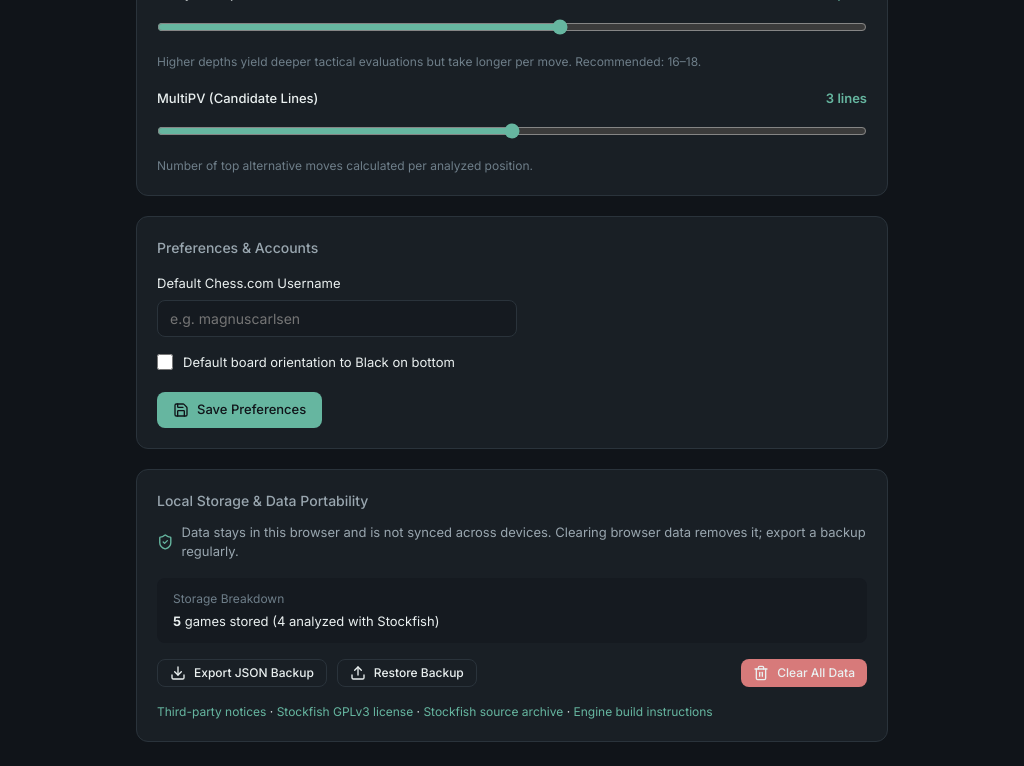
Test case: Settings recovery and operation safety › keeps clear failures visible inside the confirmation dialog and enables retry
(page scrolled)
Click the button "Clear All Data".
click(804, 673)  # box [741, 659, 867, 687]
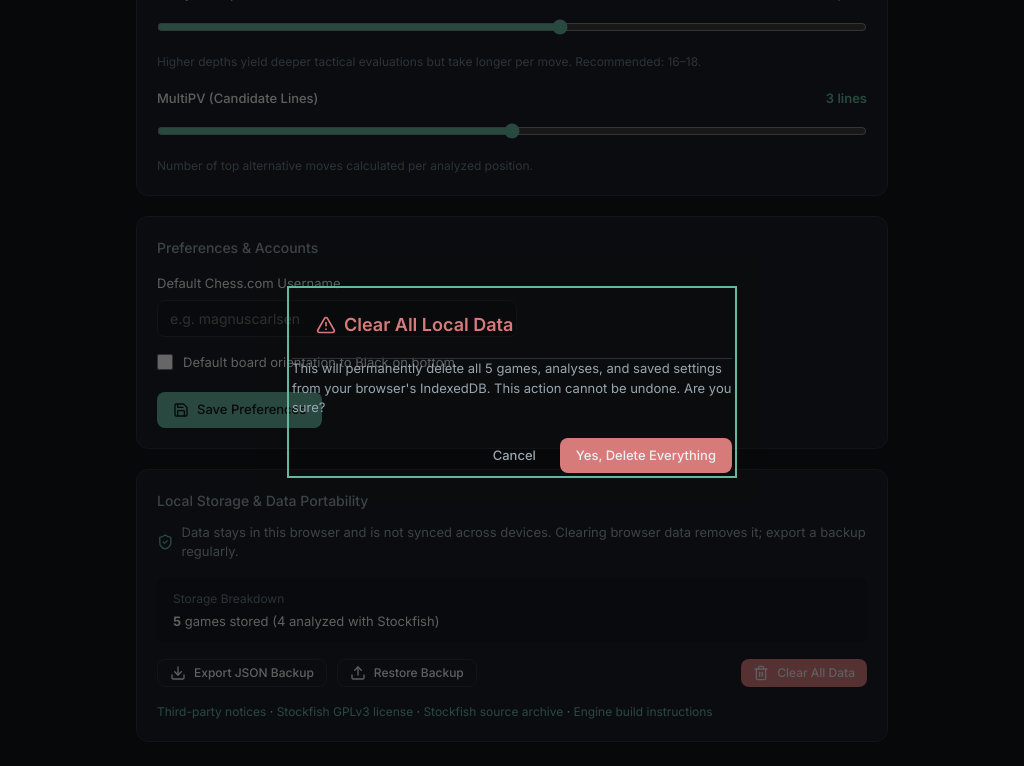
Click the button "Yes, Delete Everything".
click(646, 455)  # box [560, 438, 732, 473]
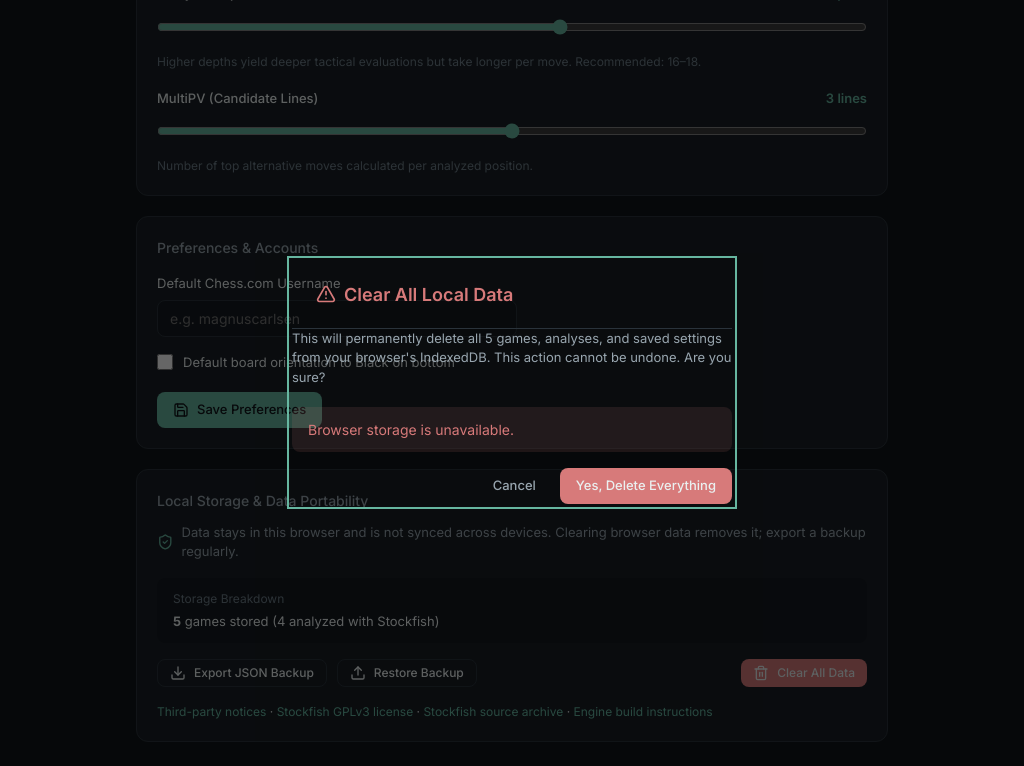
Check: the dialog is shown, box [292, 260, 732, 504]
Check: the message shows "unavailable", box [308, 421, 514, 438]
